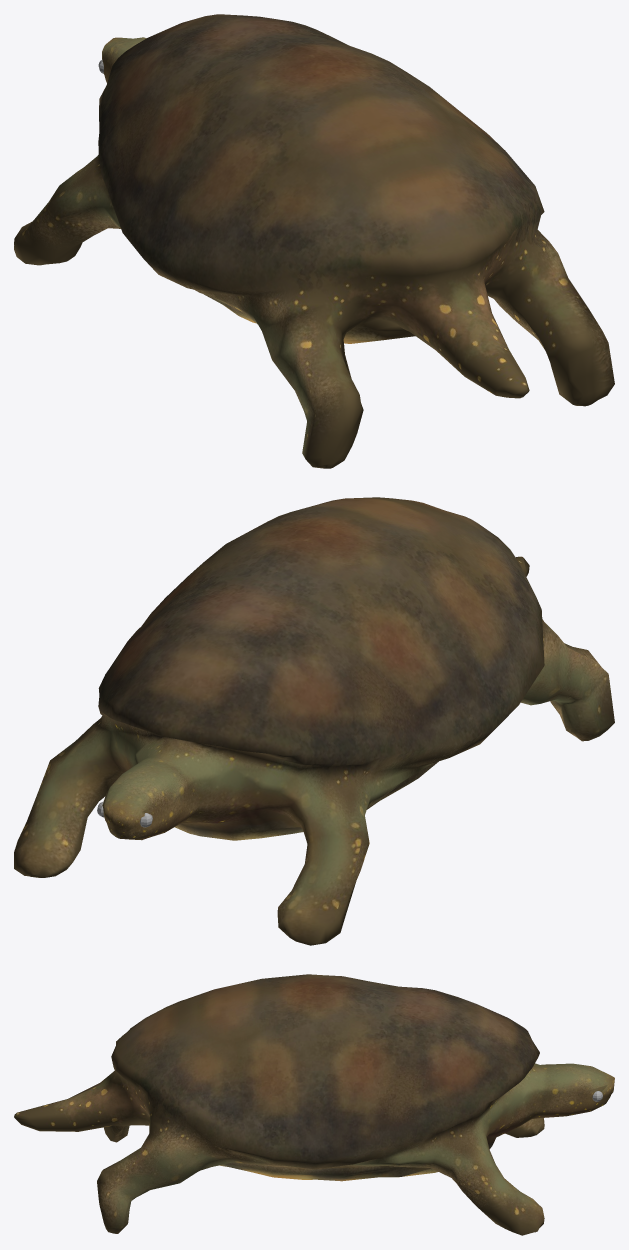
File: Turtle.fbx
3 views of the same model, one above another, from view 1: azimuth 30°, elevation 25°; view 2: azimuth 150°, elevation 25°; view 3: azimuth 270°, elevation 25° (orthographic). The views are drawn at different scales.
Parts seen in each view (by area): view 1: Turtle; view 2: Turtle; view 3: Turtle.
Part boxes in pixels (x1,y1,x2,y2): Turtle: (14, 14, 614, 468); Turtle: (14, 497, 614, 945); Turtle: (14, 974, 614, 1235).
Bounding box in the file's own units: 12.86 × 9.67 × 26.24.
2 materials, 1 textured.
